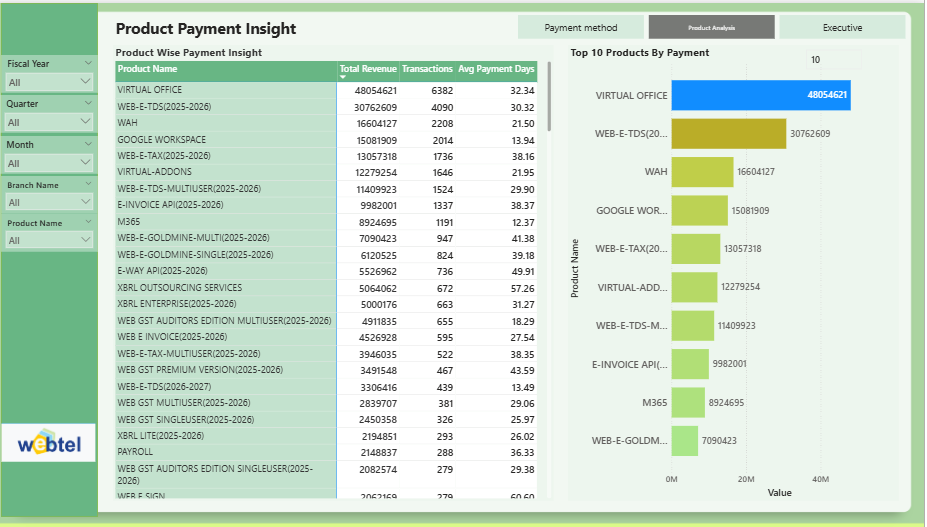

The page's visual inventory and layout, read from the dashboard file:
{"tool":"powerbi","page":{"name":"Product Analysis","canvas":[1920,1080],"ordinal":2},"visuals":[{"type":"clusteredBarChart","fields":{"Category":["DataSheet.ProductName"],"Y":["Product Parameter.Top N Product"]},"box":[1185,86.7,683.4,941.4],"z":0},{"type":"slicer","fields":{"Values":["Dates.Fiscal Year"]},"box":[14.5,107.4,200.3,78.5],"z":0,"group":"g1"},{"type":"pivotTable","title":"Product Wise Payment Insight","fields":{"Rows":["DataSheet.ProductName"],"Values":["Table.Total Revenue","Table.Total Transactions","Table.Avg Payment Days by Product"]},"box":[245.7,86.7,910.5,941.4],"z":1000},{"type":"slicer","fields":{"Values":["Dates.Month_Name"]},"box":[12.4,277,202.3,78.5],"z":1000,"group":"g1"},{"type":"slicer","fields":{"Values":["Product Parameter.Product Parameter"]},"box":[1664,86.7,138.3,82.6],"z":2000},{"type":"slicer","fields":{"Values":["Dates.Quarter"]},"box":[12.4,192.2,202.3,78.5],"z":2000,"group":"g1"},{"type":"textbox","box":[245.7,24.8,794.8,61.9],"z":3000},{"type":"slicer","fields":{"Values":["DataSheet.BranchName"]},"box":[14.5,361.9,200.3,78.5],"z":3000,"group":"g1"},{"type":"pageNavigator","box":[1081.8,24.8,801,49.5],"z":4000},{"type":"slicer","fields":{"Values":["DataSheet.PaymentM"]},"box":[12.4,446.7,200.3,78.5],"z":4000,"group":"g1"},{"type":"shape","box":[14.5,0,200,1061.2],"z":5000},{"type":"slicer","fields":{"Values":["DataSheet.ProductName"]},"box":[14.6,530.8,198.7,77.8],"z":5000,"group":"g1"},{"type":"slicer","fields":{"Values":["DataSheet.ExecutiveName"]},"box":[15.1,615.6,198.7,84.2],"z":6000,"group":"g1"},{"type":"image","box":[10.3,770.1,204.4,274.6],"z":6000},{"type":"group","id":"g1","title":"Group 1","box":[12.4,107.4,202.3,592.5],"z":7000},{"type":"textbox","box":[1669.7,1034.6,224.6,45.4],"z":8000}]}

Visuals, with their boxes in screenshot pixels (x1, y1, x2, y2), scaled from the page's 1920x1080 canvas onto the 927x527 screenshot:
clusteredBarChart - DataSheet.ProductName x Product Parameter.Top N Product: bbox(572, 42, 902, 502)
slicer - Dates.Fiscal Year: bbox(7, 52, 104, 91)
"Product Wise Payment Insight" pivotTable: bbox(119, 42, 558, 502)
slicer - Dates.Month_Name: bbox(6, 135, 104, 173)
slicer - Product Parameter.Product Parameter: bbox(803, 42, 870, 83)
slicer - Dates.Quarter: bbox(6, 94, 104, 132)
textbox: bbox(119, 12, 502, 42)
slicer - DataSheet.BranchName: bbox(7, 177, 104, 215)
pageNavigator: bbox(522, 12, 909, 36)
slicer - DataSheet.PaymentM: bbox(6, 218, 103, 256)
shape: bbox(7, 0, 104, 518)
slicer - DataSheet.ProductName: bbox(7, 259, 103, 297)
slicer - DataSheet.ExecutiveName: bbox(7, 300, 103, 341)
image: bbox(5, 376, 104, 510)
"Group 1" group: bbox(6, 52, 104, 342)
textbox: bbox(806, 505, 915, 526)
